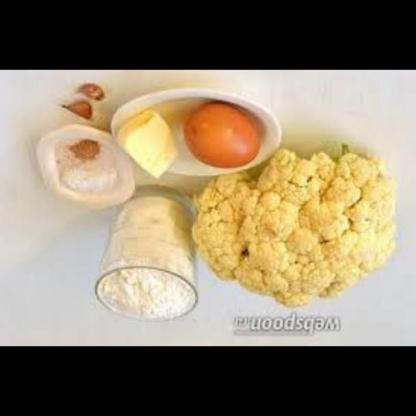cayliflower: (185, 151, 399, 316)
garlic: (60, 100, 99, 126), (77, 80, 108, 106)
